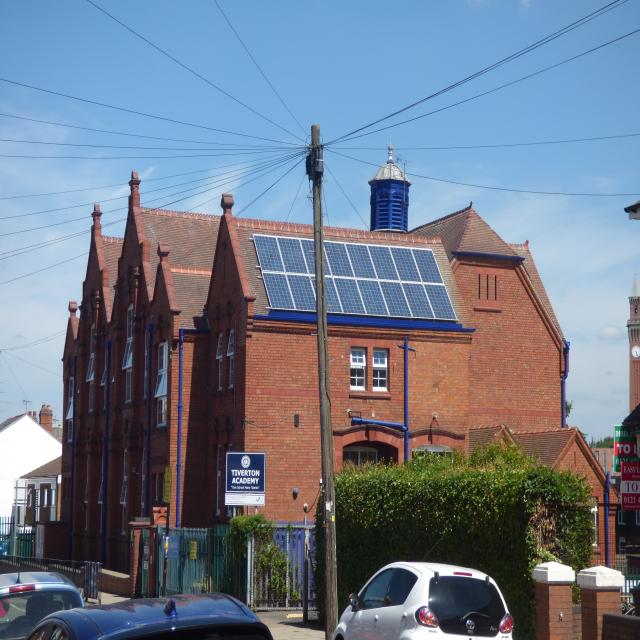clean-solar-panel: (253, 234, 457, 320)
